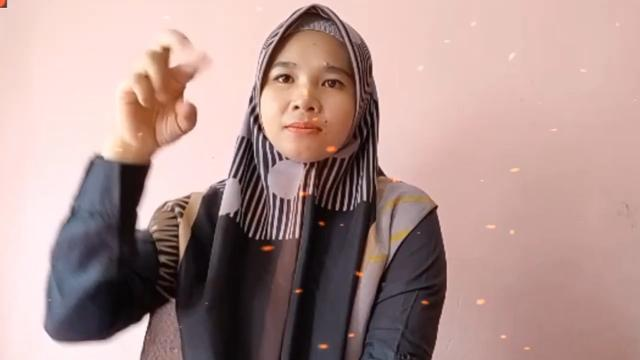R: (114, 23, 212, 153)
